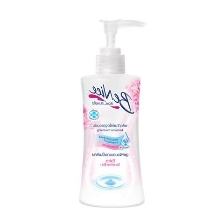cleaning_solution: (74, 15, 153, 211)
